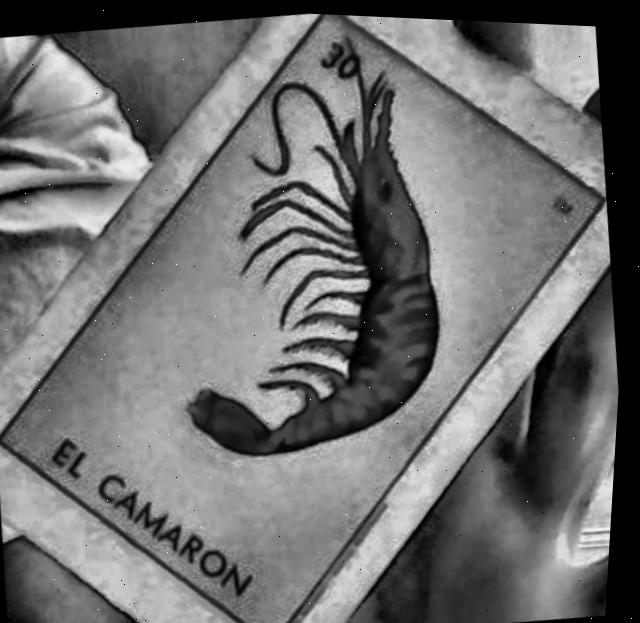El Camaron: (6, 11, 606, 623)
